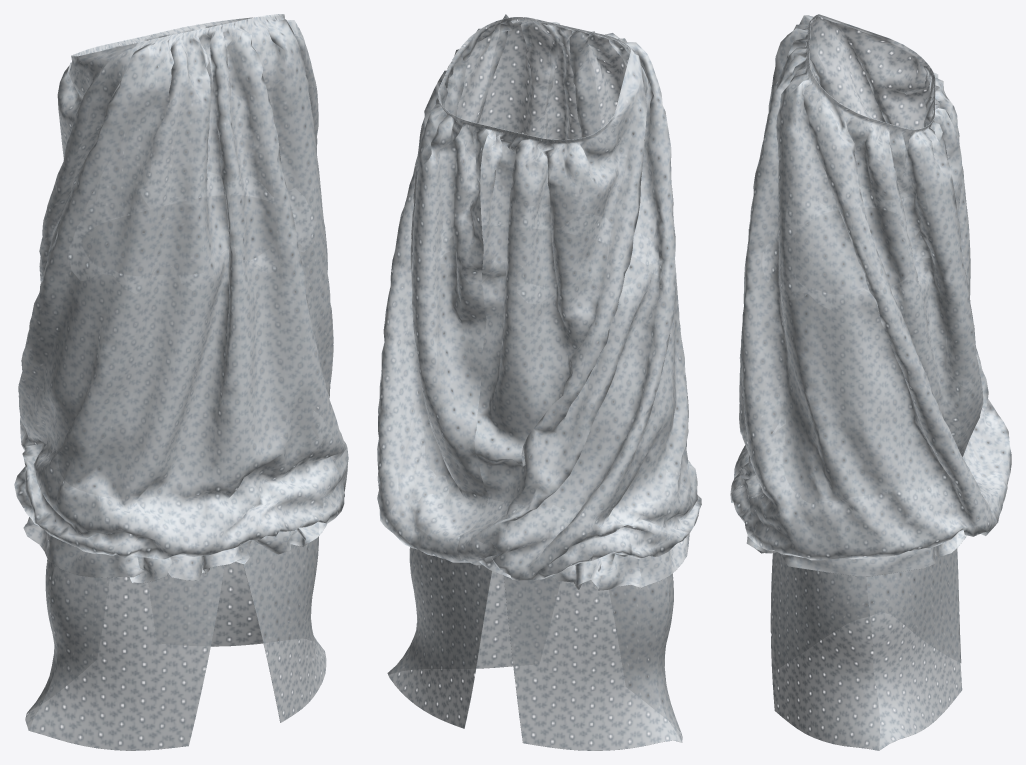
Rendered from asset.gltf.
3 views of the same model, side by side, from view 1: azimuth 30°, elevation 25°; view 2: azimuth 150°, elevation 25°; view 3: azimuth 270°, elevation 25° (orthographic). The views are drawn at different scales.
Visible parts, largest first — view 1: PARTS5, PARTS6, PARTS8, PARTS7, PARTS2, PARTS1; view 2: PARTS5, PARTS1, PARTS2, PARTS7, PARTS8, PARTS6; view 3: PARTS5, PARTS8, PARTS2, PARTS7.
Boxes of the visible parts, x1,y1,x2,y2 form: PARTS5: (14, 14, 348, 559); PARTS6: (28, 273, 225, 750); PARTS8: (226, 257, 326, 722); PARTS7: (23, 480, 326, 583); PARTS2: (139, 197, 314, 646); PARTS1: (25, 211, 147, 729); PARTS5: (377, 14, 701, 580); PARTS1: (503, 292, 681, 750); PARTS2: (387, 275, 508, 728); PARTS7: (470, 522, 689, 590); PARTS8: (407, 232, 578, 669); PARTS6: (585, 238, 682, 742); PARTS5: (730, 14, 1011, 560); PARTS8: (770, 295, 879, 750); PARTS2: (860, 286, 962, 750); PARTS7: (746, 530, 966, 576).
Bounding box in the file's own units: 0.458 × 1.02 × 0.3984.
2 materials, 2 textured.
